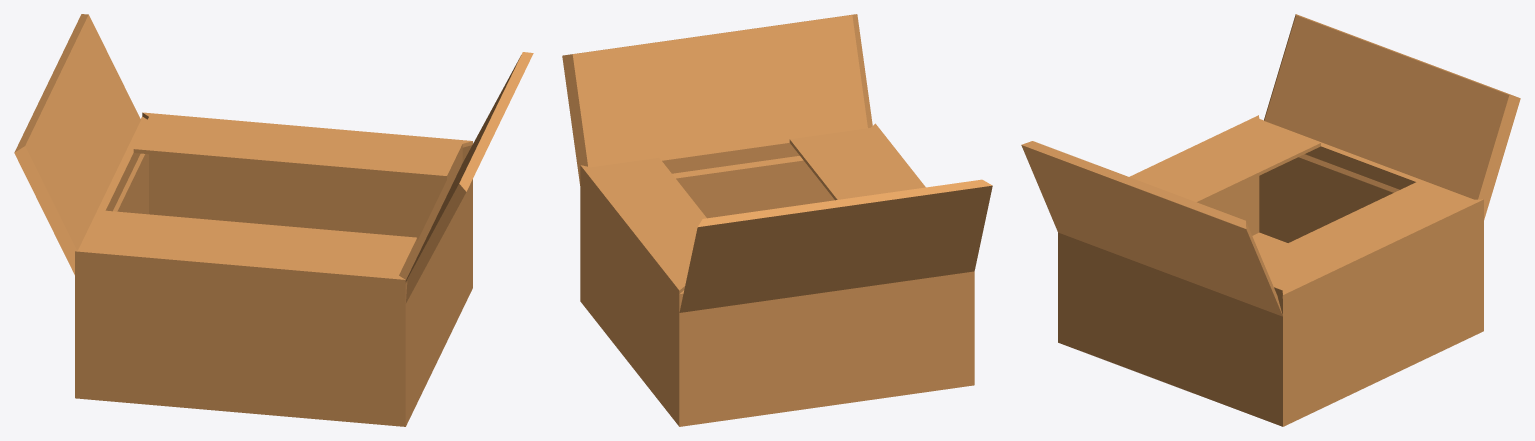
The model's file is КОРОБКА1.fbx.
The picture shows the model from 3 angles, left to right: view 1: azimuth 30°, elevation 25°; view 2: azimuth 150°, elevation 25°; view 3: azimuth 270°, elevation 25°; orthographic projection. The views are drawn at different scales.
Parts seen in each view (by area): view 1: Куб.043, Куб.040; view 2: Куб.043, Куб.040; view 3: Куб.043, Куб.040.
Part boxes in pixels (x1,y1,x2,y2): Куб.043: (75,112,472,426); Куб.040: (14,14,533,302); Куб.043: (580,123,974,426); Куб.040: (562,14,992,312); Куб.043: (1058,115,1483,426); Куб.040: (1021,14,1520,316).
Bounding box in the file's own units: 103 × 48.81 × 101.
